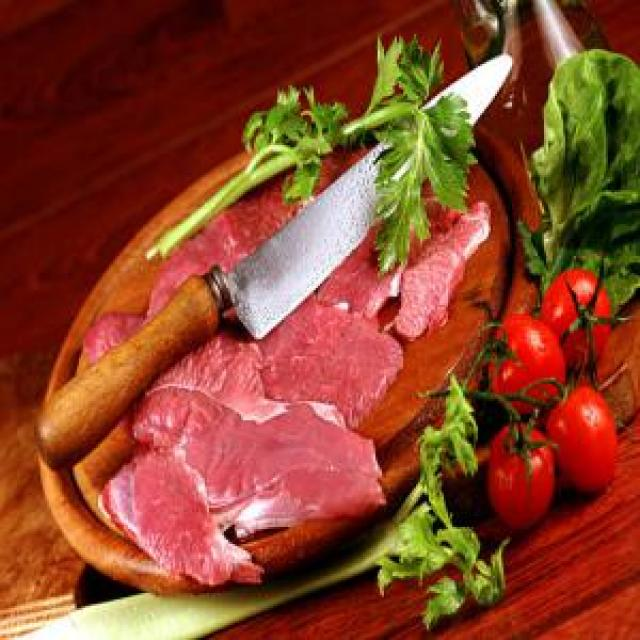knife: (34, 53, 515, 474)
